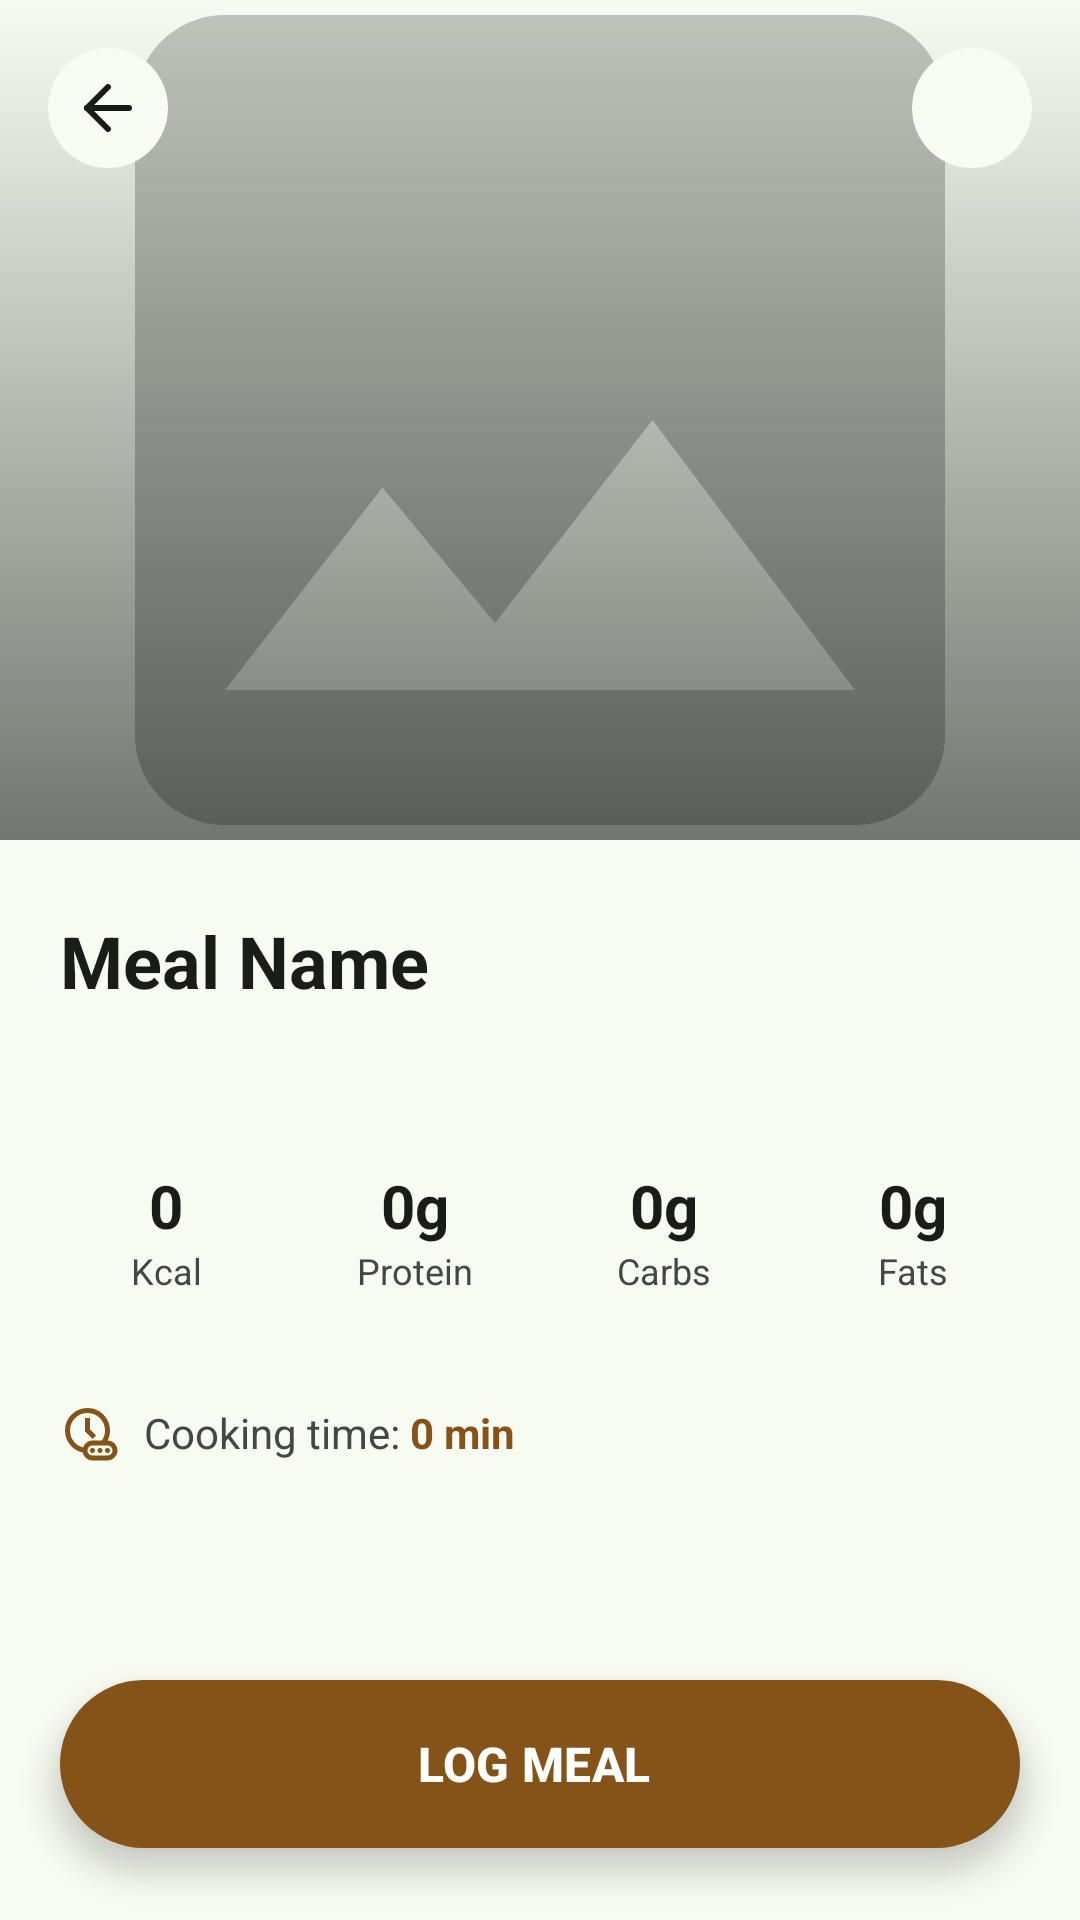

Named icons in this screenshot (1080×1920) and their bounding boxes, (left=x1, top=y1, right=x2, bottom=y2):
arrow back: (left=84, top=48, right=168, bottom=168)
clock: (left=65, top=1408, right=118, bottom=1461)
